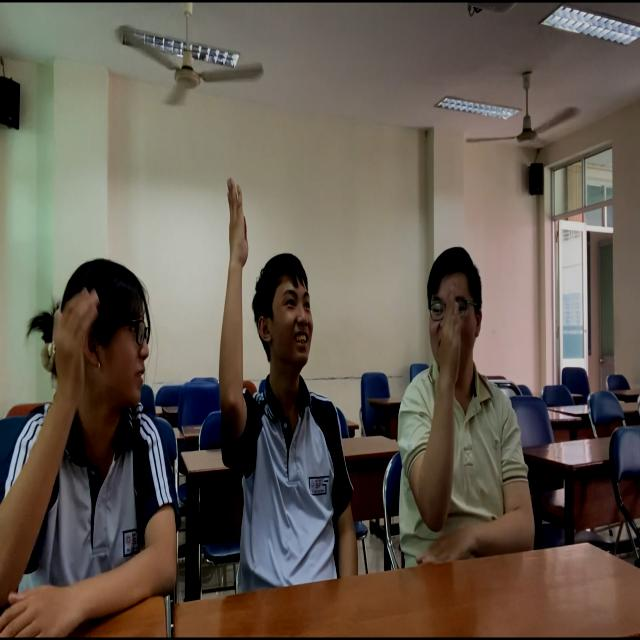raise_hand: (210, 159, 367, 609), (385, 218, 527, 577)
